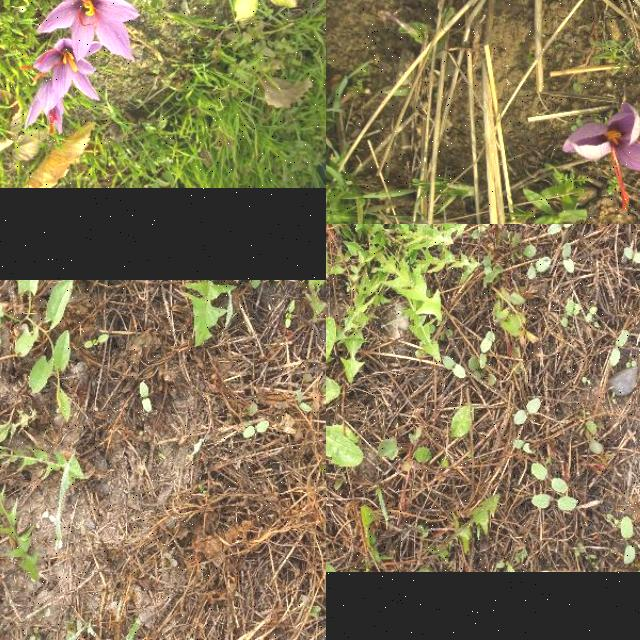flower: (560, 101, 640, 210), (35, 0, 141, 62), (20, 40, 101, 101), (24, 81, 66, 135)
